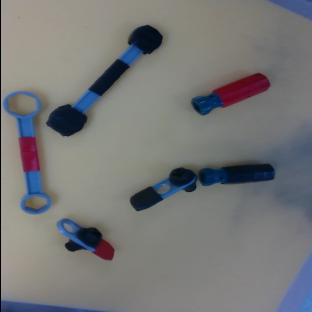part_1_bad: (124, 163, 200, 214)
part_1_good: (48, 216, 119, 265)
part_2_bad: (197, 162, 273, 187)
part_2_good: (188, 70, 270, 118)
part_3_bad: (42, 19, 167, 144)
part_3_good: (1, 89, 51, 217)
